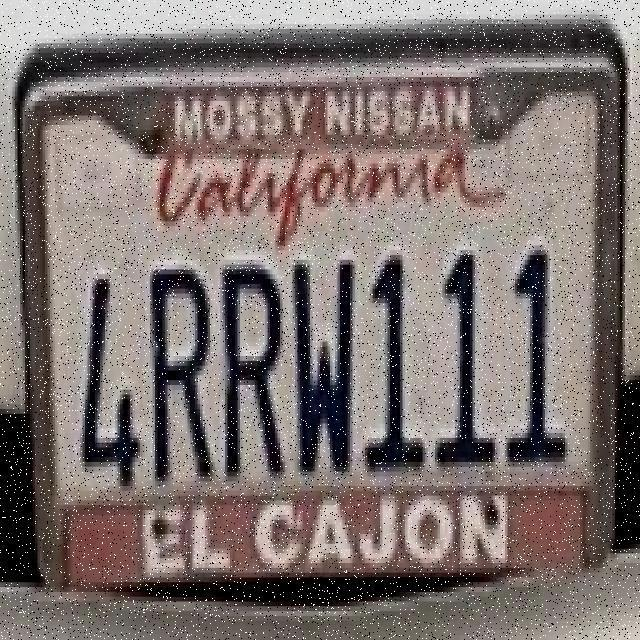LicensePlate: (7, 32, 633, 611)
